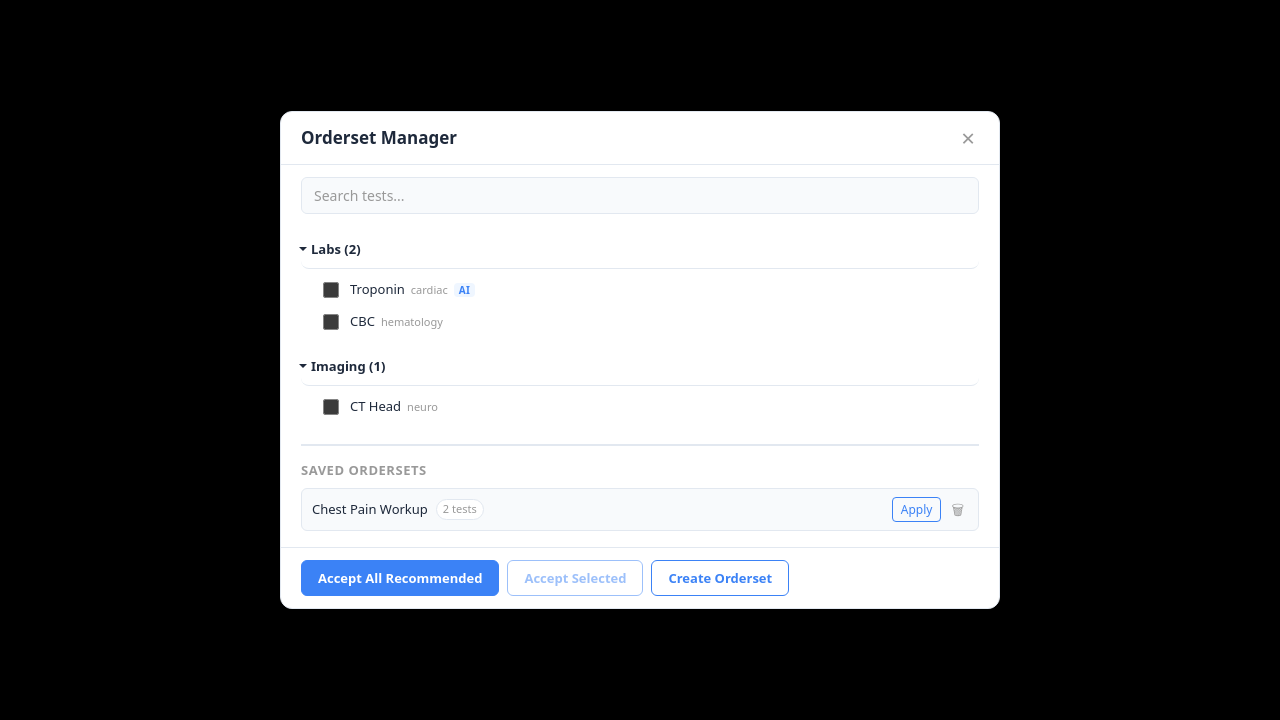
OrdersetManager › [Fix 1] cancels delete on "No" click
Click the button named "Delete Chest Pain Workup" at (958, 510), box [947,501,968,519]
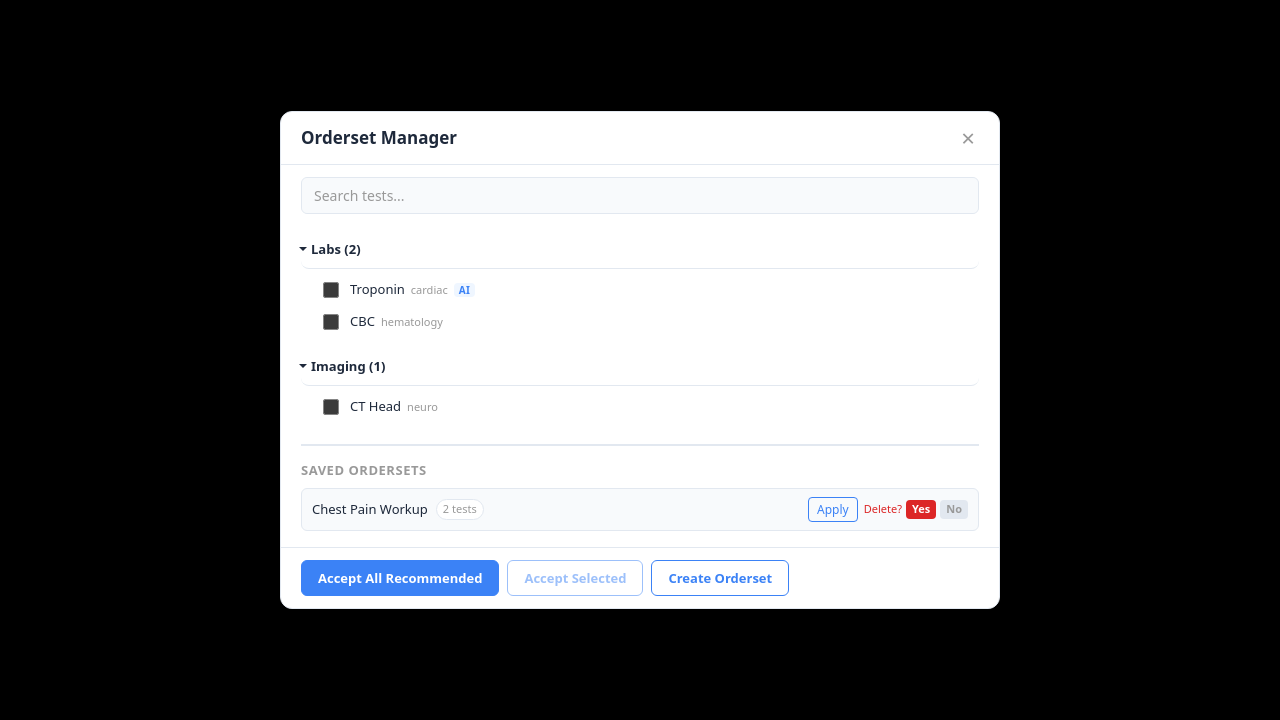
Click the button "No" at (954, 510), box [940,500,968,519]
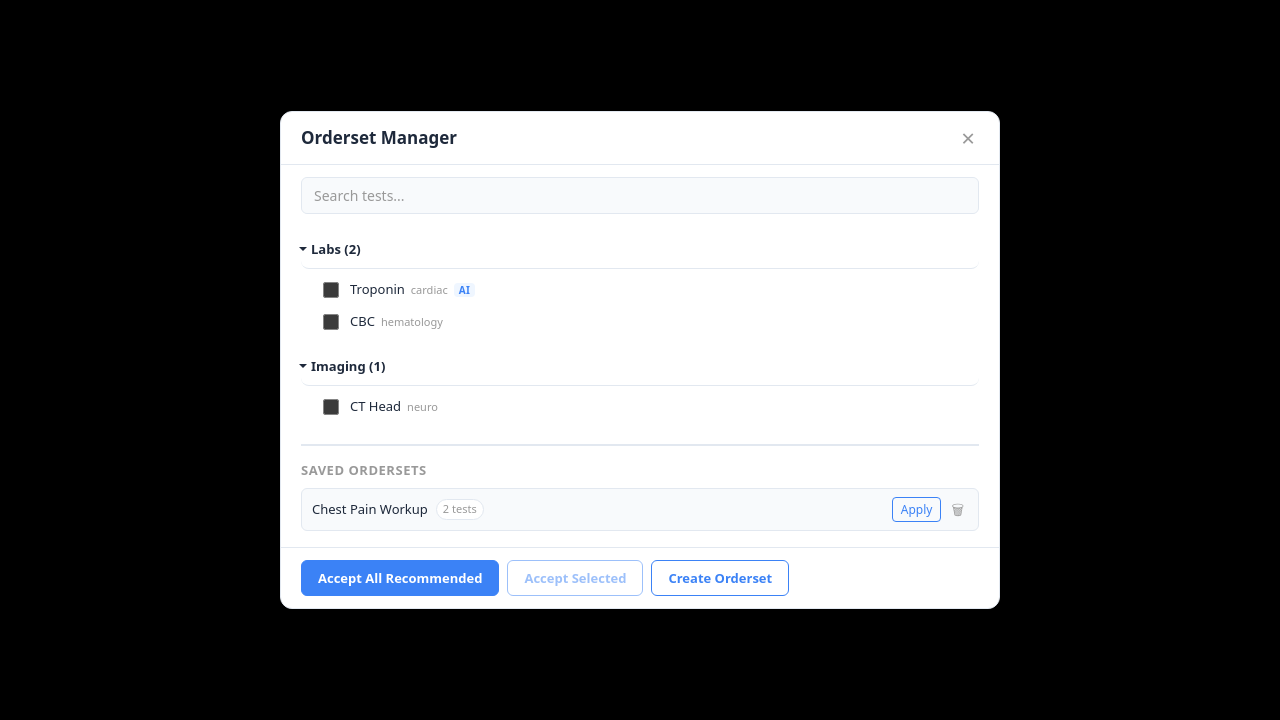
expect the text "Delete?" is gone: met
expect the button named "Delete Chest Pain Workup" is shown: met, box [947,501,968,519]
